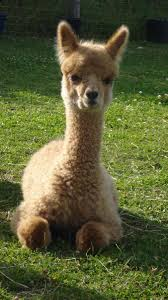alpaca: (11, 20, 129, 253)
